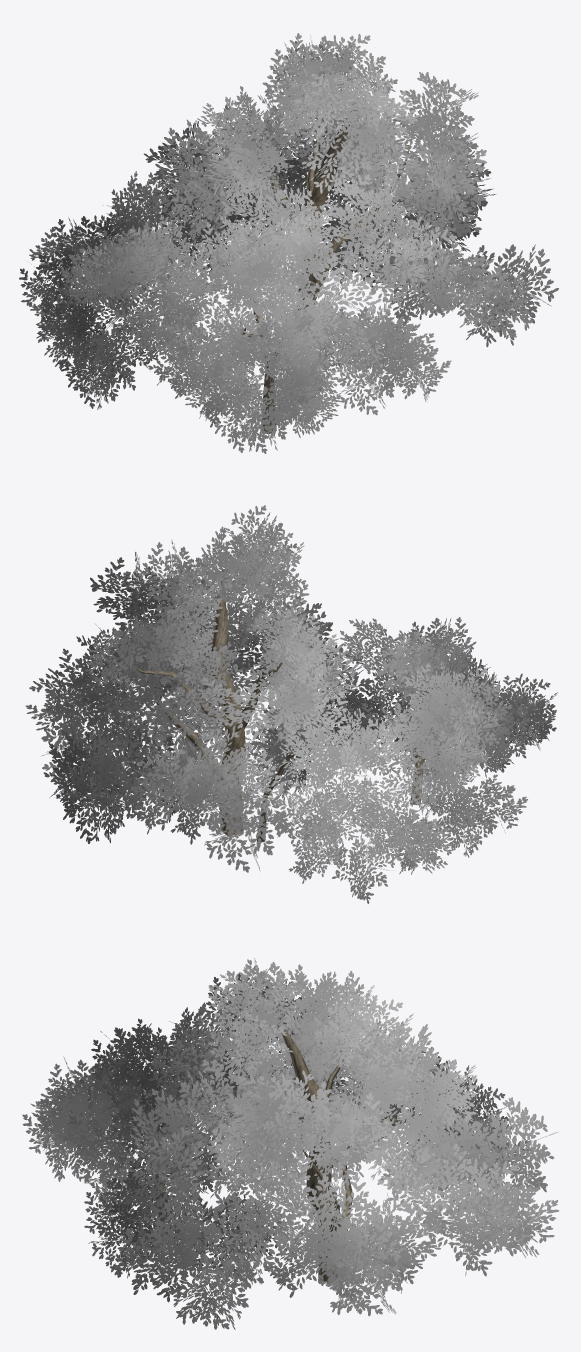
File: SM_Com_Shr_08AS.fbx
3 renders of one model, top to bottom at view 1: azimuth 30°, elevation 25°; view 2: azimuth 150°, elevation 25°; view 3: azimuth 270°, elevation 25°, orthographic. The views are drawn at different scales.
Visible parts, largest first — view 1: SM_Com_Shr_08AS.mo; view 2: SM_Com_Shr_08AS.mo; view 3: SM_Com_Shr_08AS.mo.
Boxes of the visible parts, x1=… form: SM_Com_Shr_08AS.mo: x1=19, y1=33, x2=558, y2=453; SM_Com_Shr_08AS.mo: x1=25, y1=505, x2=557, y2=903; SM_Com_Shr_08AS.mo: x1=22, y1=958, x2=559, y2=1329.
Size of the model in its own units: 11.16 by 6.69 by 10.53.
